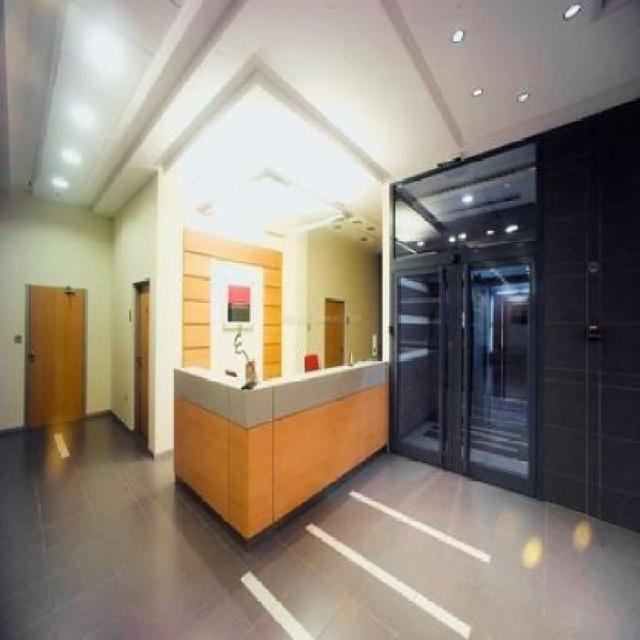frontdesk: (157, 351, 398, 552)
